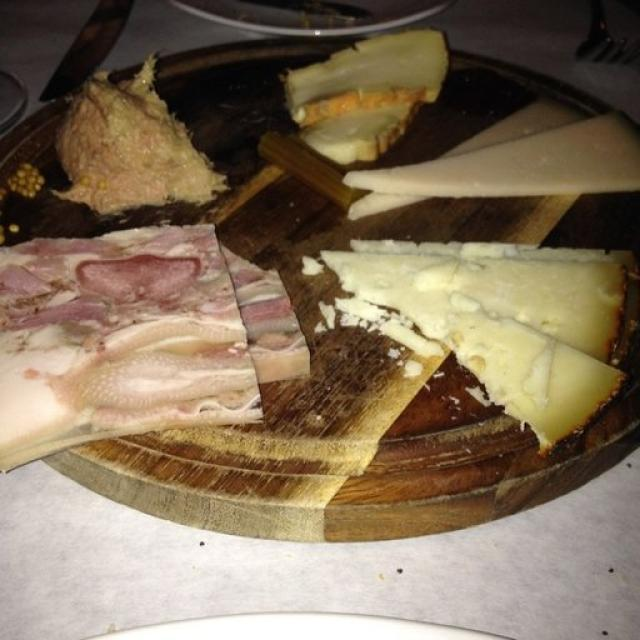Bacon Slice: (0, 228, 260, 458)
